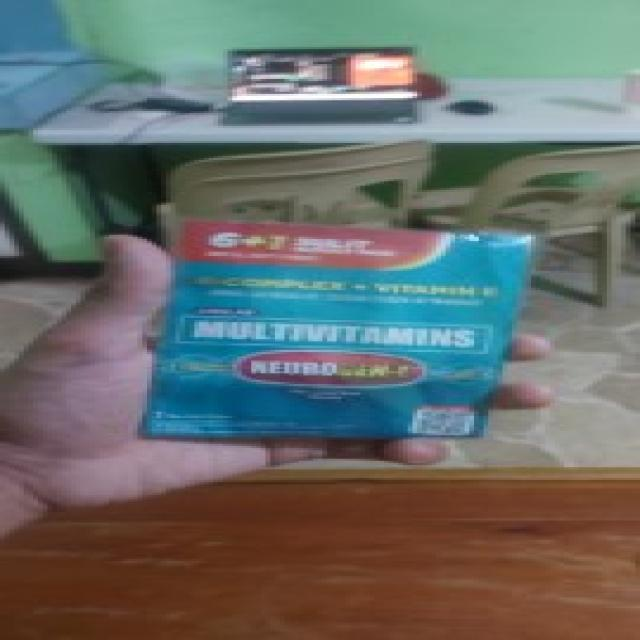Cacat: (139, 215, 545, 441)
